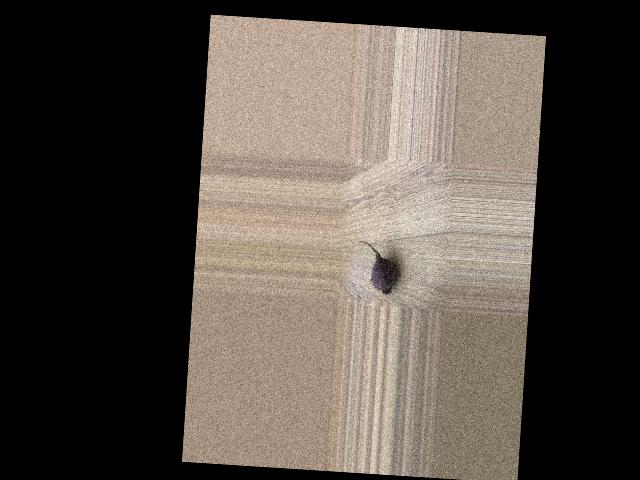beet: (355, 239, 397, 293)
